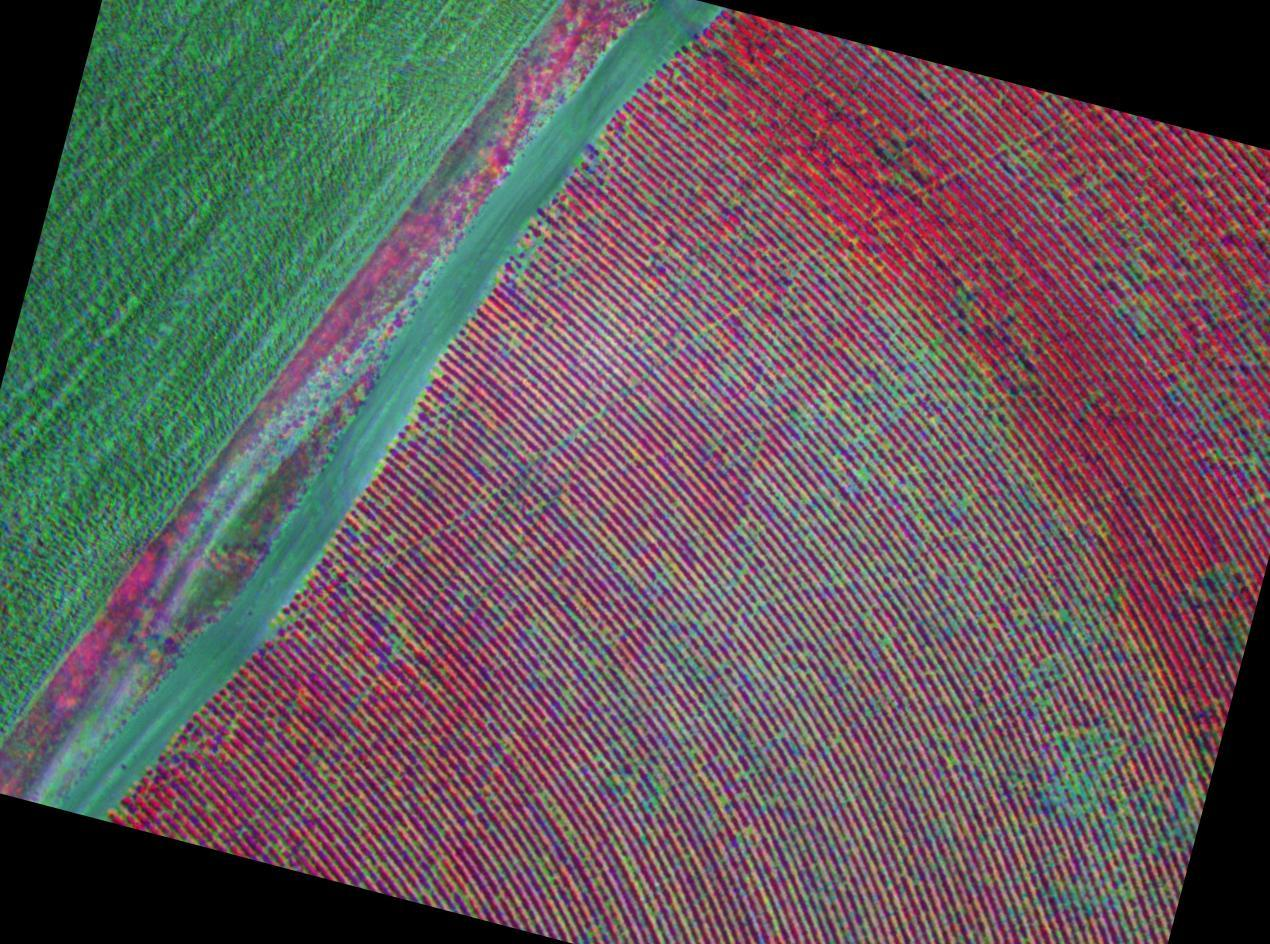dc: (482, 457, 486, 462), (400, 625, 404, 629), (566, 832, 570, 836), (624, 858, 628, 862), (395, 607, 399, 610), (845, 673, 848, 677), (721, 797, 724, 801), (512, 339, 515, 342), (274, 845, 277, 848), (549, 878, 552, 881)
